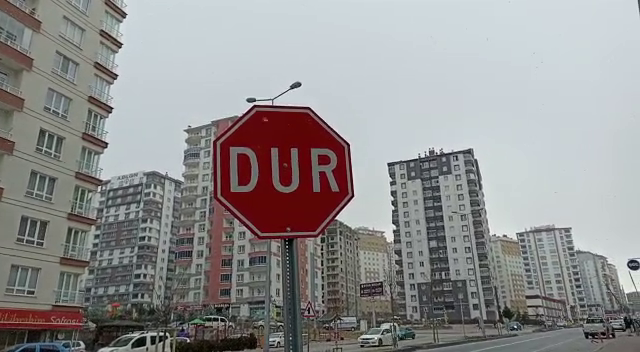stop: (210, 101, 359, 242)
